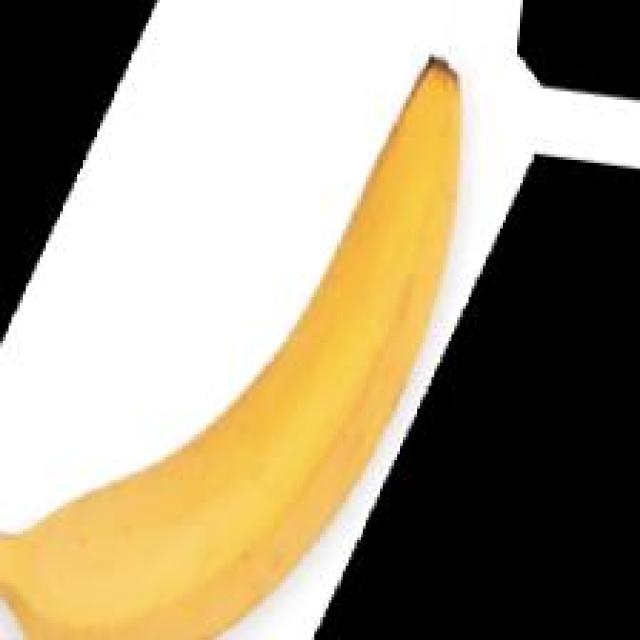banana: (8, 52, 470, 640)
